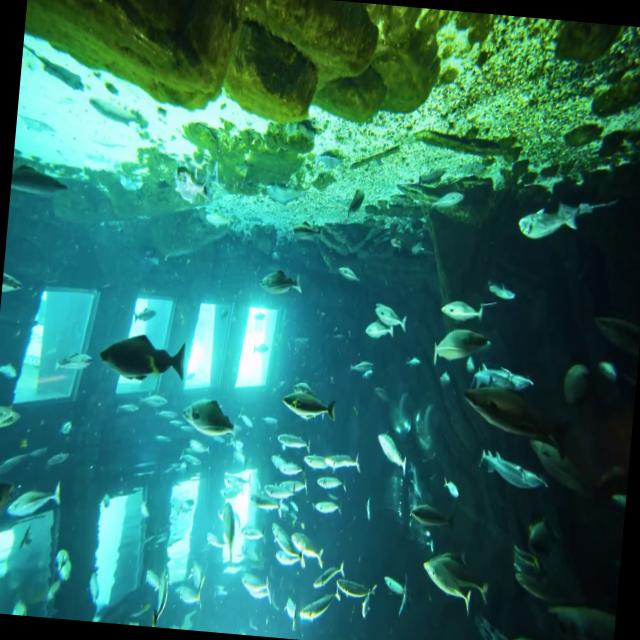fish: (450, 382, 584, 457), (94, 332, 190, 388), (472, 443, 550, 497), (418, 550, 478, 612), (426, 322, 489, 378), (180, 390, 243, 443), (515, 195, 578, 247), (278, 384, 342, 427), (286, 523, 330, 571), (372, 426, 412, 476), (256, 258, 304, 298), (366, 300, 414, 332), (436, 293, 485, 322)
